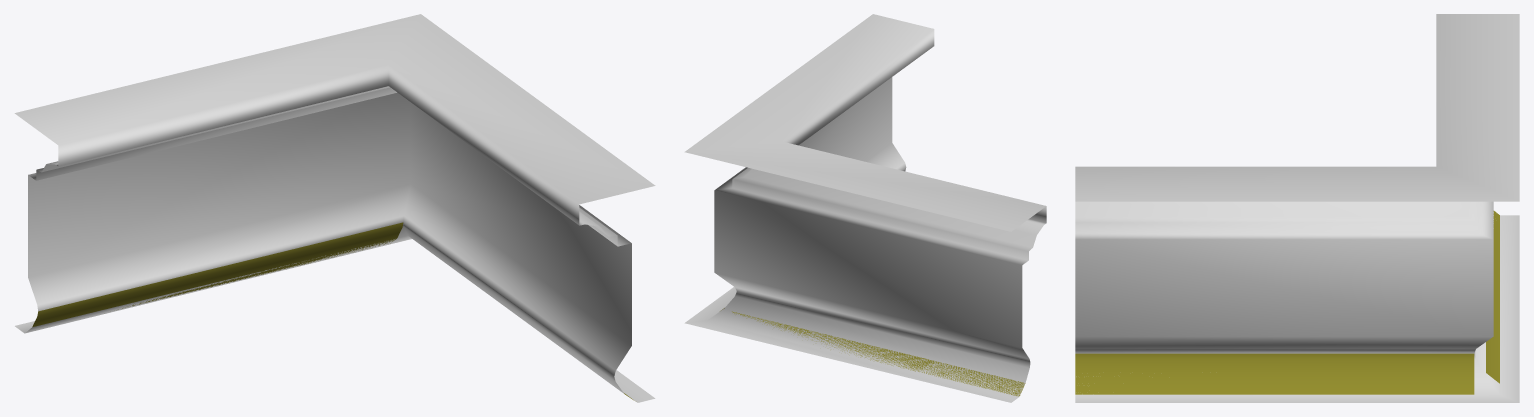
Rendered from SM_FriezeACornerInner2m.fbx.
3 views of the same model, side by side, from view 1: azimuth 30°, elevation 25°; view 2: azimuth 150°, elevation 25°; view 3: azimuth 270°, elevation 25° (orthographic). The views are drawn at different scales.
Visible parts, largest first — view 1: SM_FriezeACornerInner2m; view 2: SM_FriezeACornerInner2m; view 3: SM_FriezeACornerInner2m.
Part boxes in pixels (<box>): SM_FriezeACornerInner2m: <box>14,14,655,402</box>; SM_FriezeACornerInner2m: <box>684,14,1046,402</box>; SM_FriezeACornerInner2m: <box>1075,14,1519,402</box>.
Bounding box in the file's own units: 200 × 100 × 200.
